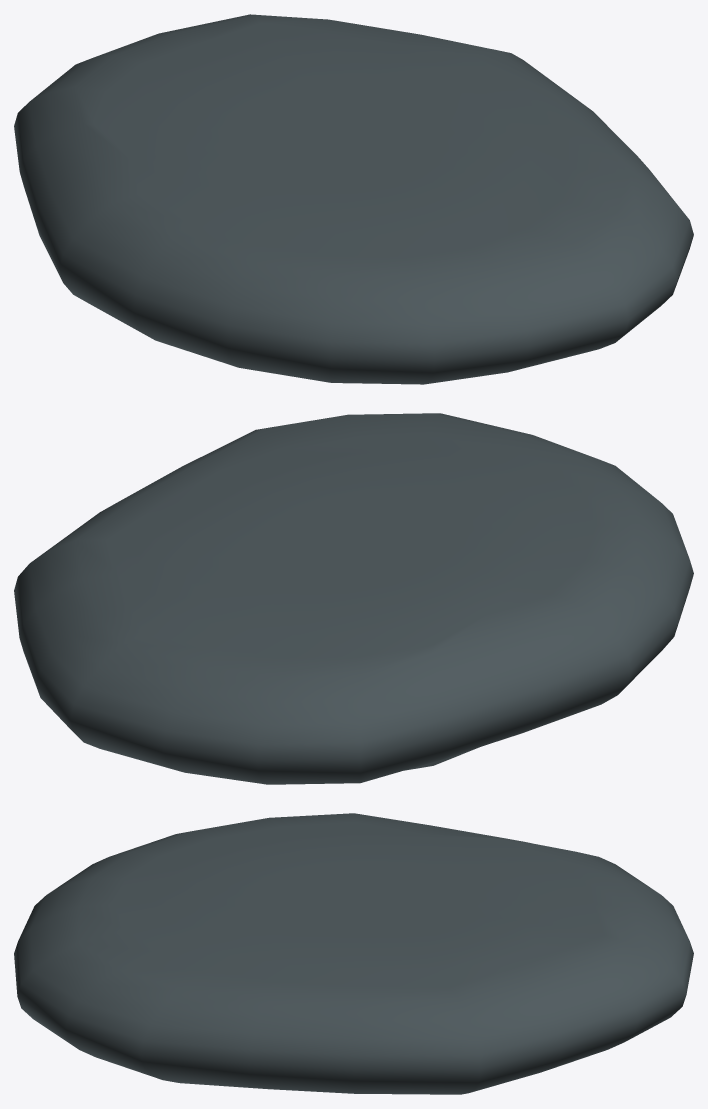
The model's file is Stepping Stone Full Model.fbx.
The picture shows the model from 3 angles, top to bottom: view 1: azimuth 30°, elevation 25°; view 2: azimuth 150°, elevation 25°; view 3: azimuth 270°, elevation 25°; orthographic projection. The views are drawn at different scales.
Visible parts, largest first — view 1: pSphere1; view 2: pSphere1; view 3: pSphere1.
Part boxes in pixels (x1,y1,x2,y2): pSphere1: [14, 14, 693, 384]; pSphere1: [14, 413, 693, 784]; pSphere1: [14, 813, 693, 1094].
Bounding box in the file's own units: 2.06 × 0.5605 × 2.56.
